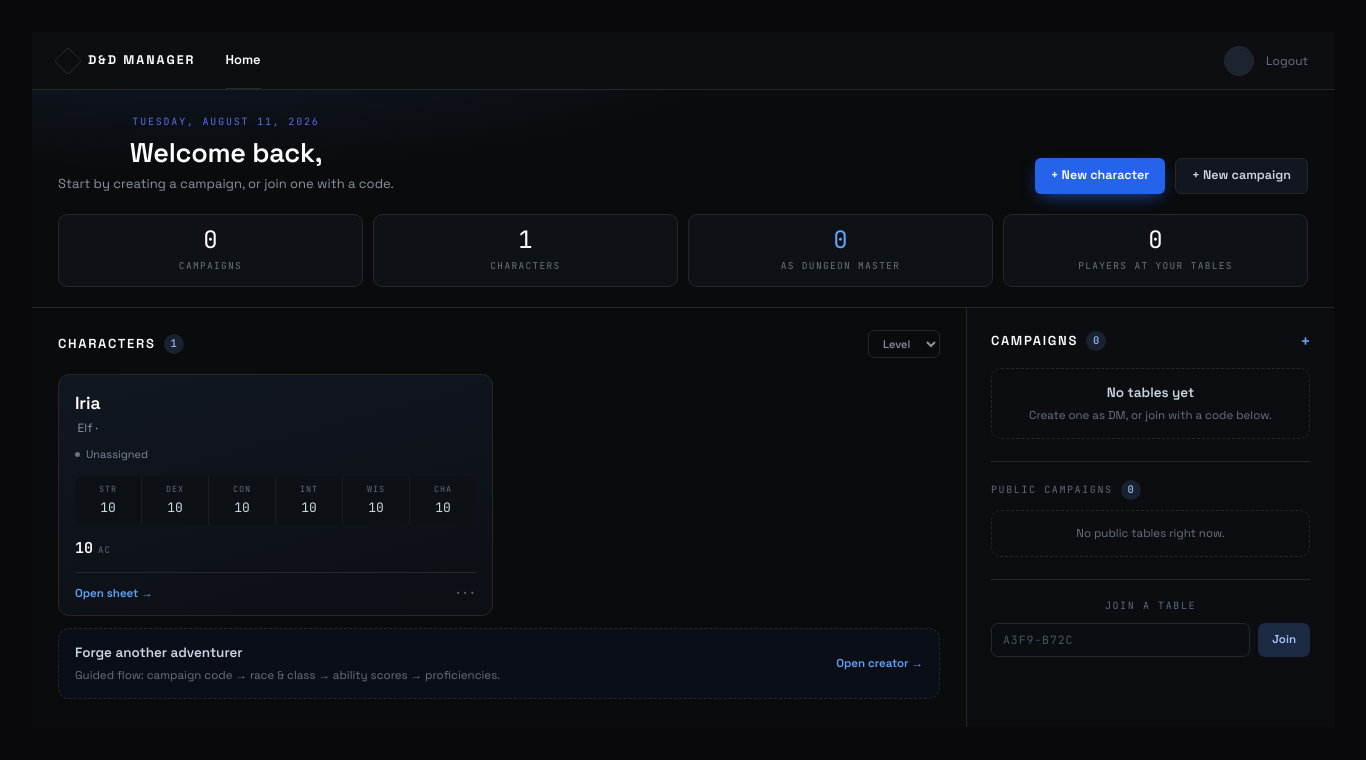
Test case: App create campaign flow › deletes the current character from the detail sheet using the shared confirmation flow
The width and height of the screenshot is (1366, 760).
What coordinates should you click on to do the following:
click the text "Iria"
I would click on:
 (88, 403)
Its box is [75, 390, 100, 416].
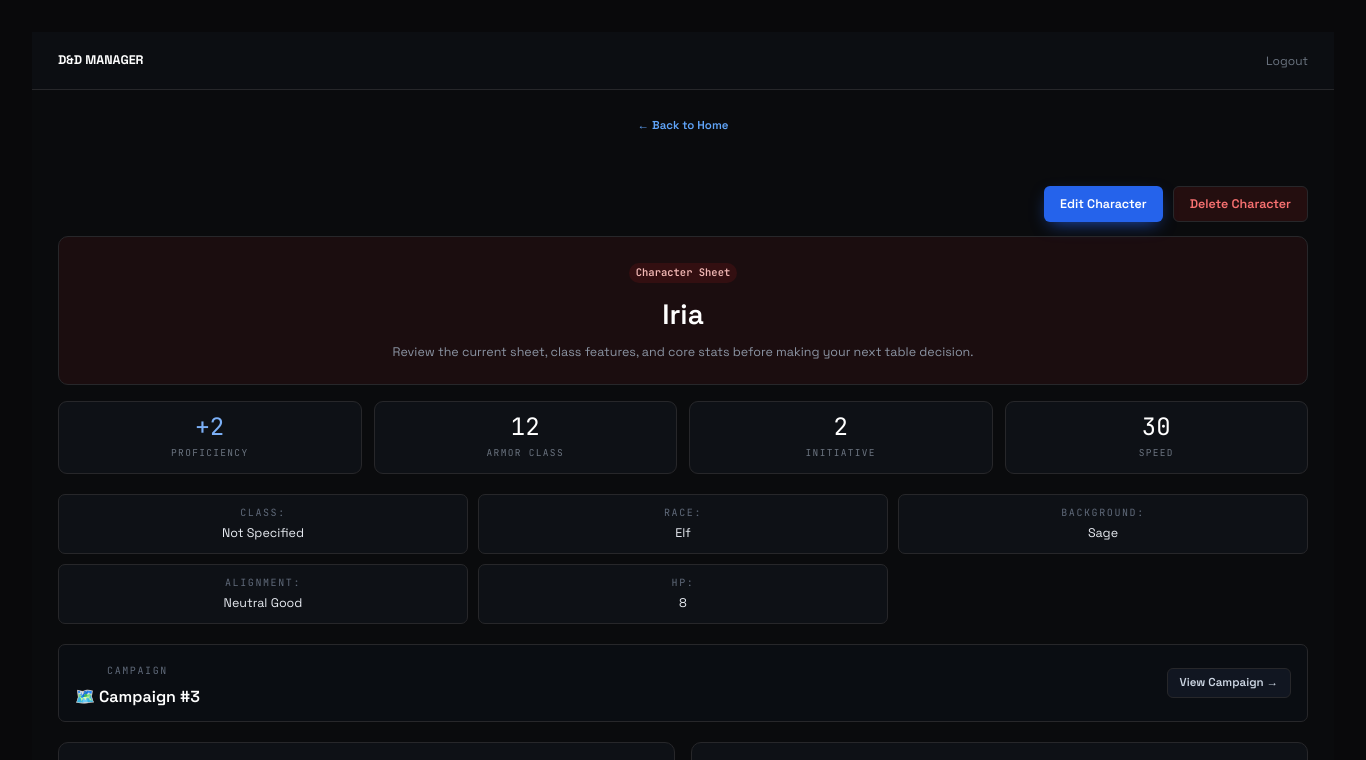
Result: the button "Delete Character" is shown
What coordinates should you click on to do the following:
click the button "Delete Character"
I would click on:
 (1240, 204)
Its box is [1173, 186, 1308, 222].
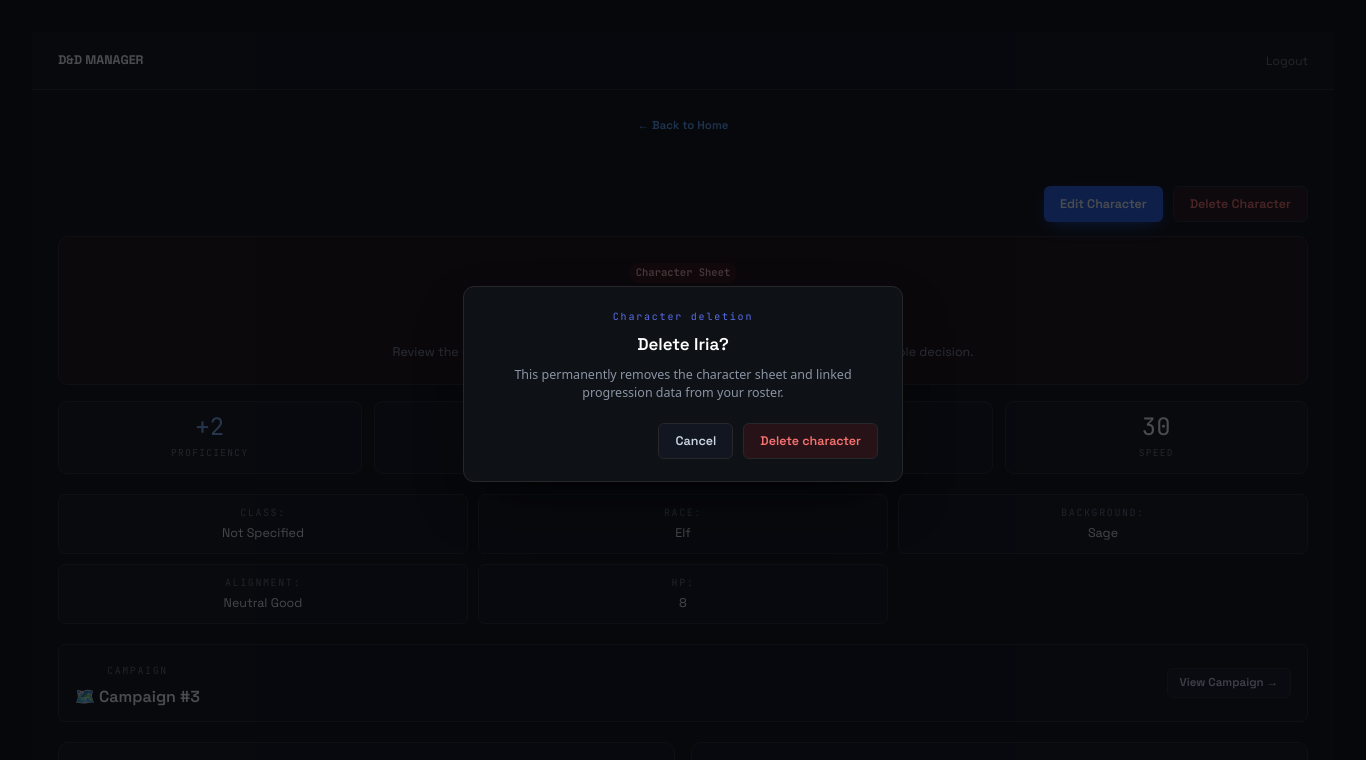
Result: the heading "Delete Iria?" is shown at [637, 333, 729, 355]
What coordinates should you click on to do the following:
click the button "Delete character"
I would click on:
 (811, 441)
Its box is [743, 423, 878, 459].
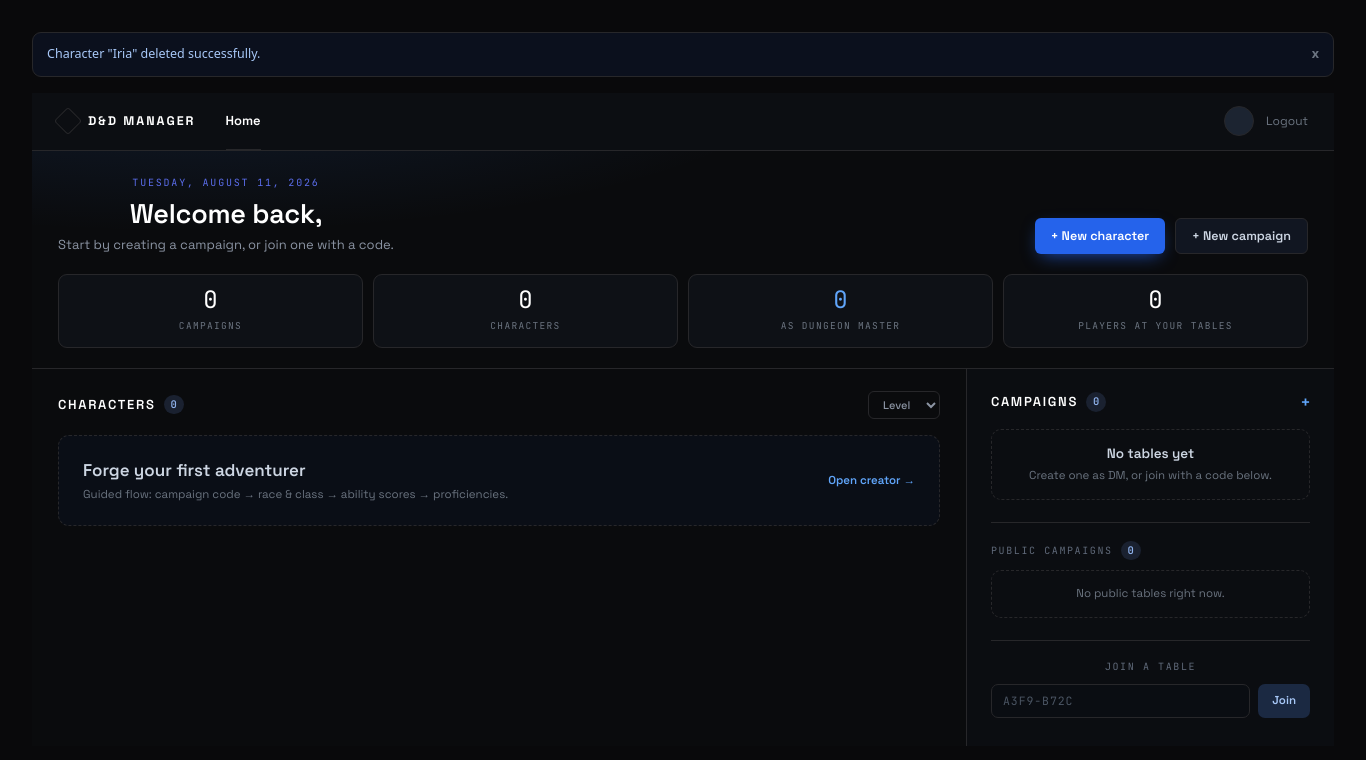
Result: the text "Character \"Iria\" deleted successfully." is shown at [47, 45, 260, 64]
Result: the button "+ New character" is shown at [1035, 218, 1165, 254]
